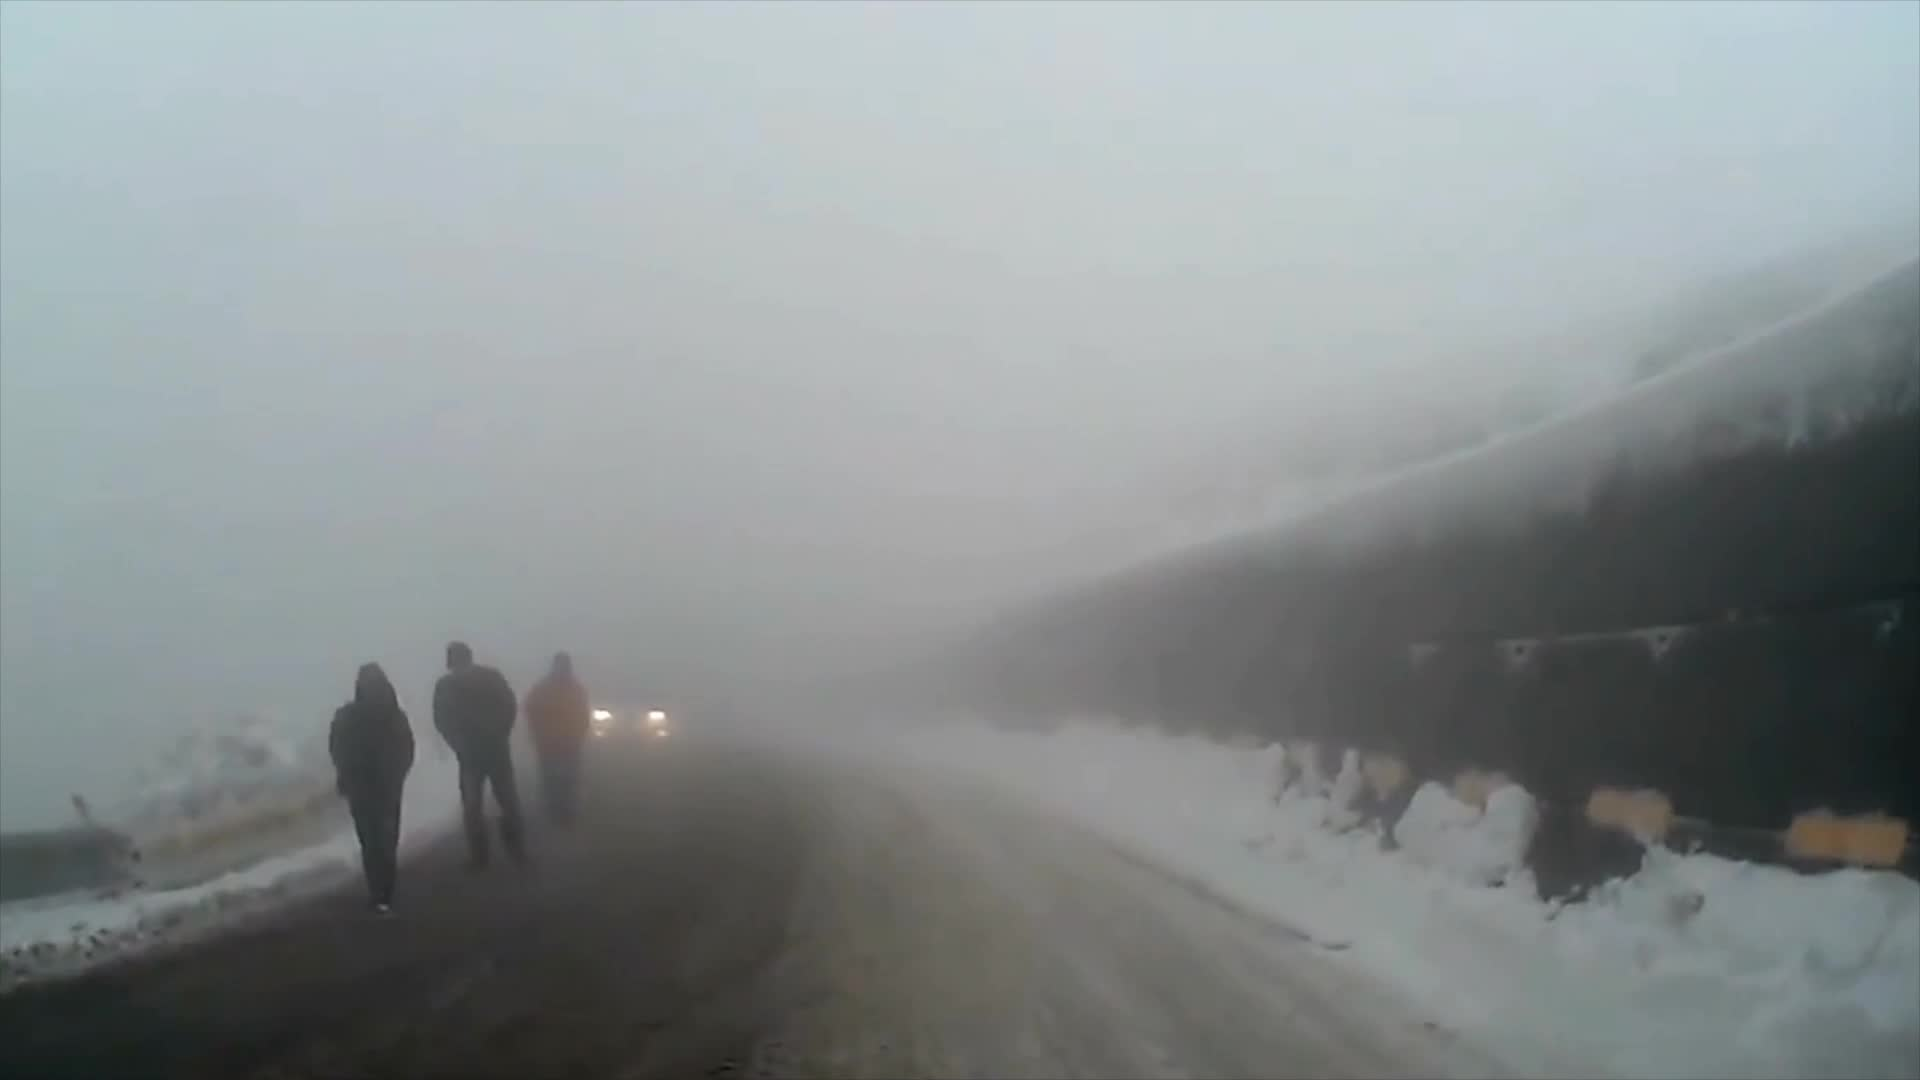pedestrian: (332, 659, 418, 908), (430, 642, 520, 869), (525, 654, 592, 829)
vehicle: (582, 680, 675, 761)
